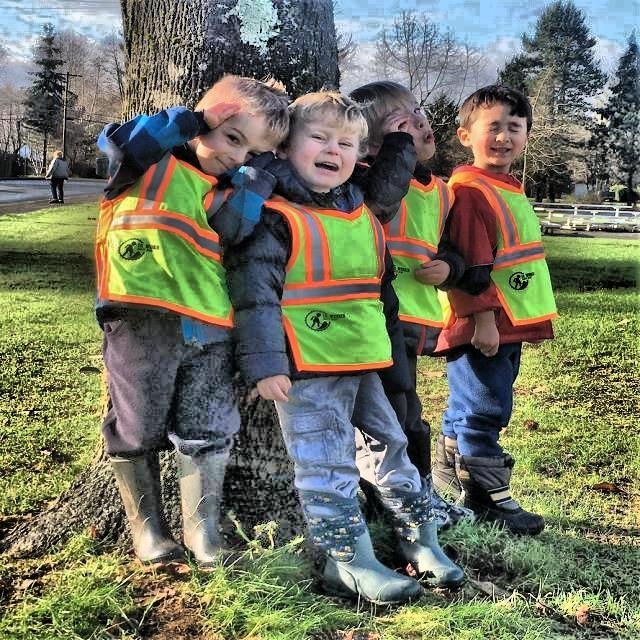safety_jacket: (279, 176, 386, 381), (105, 162, 222, 316), (466, 163, 558, 339), (394, 158, 453, 334)
